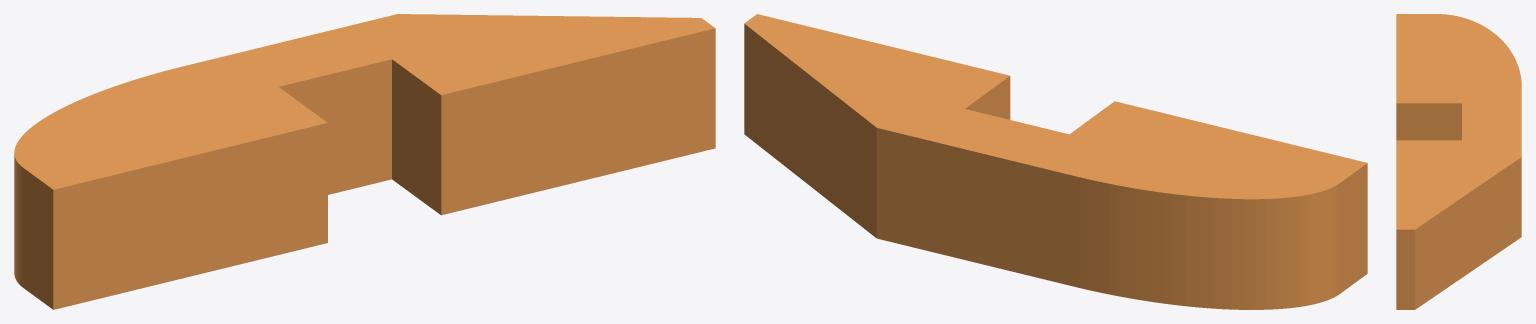
The model's file is WEST_FRONT_SPACER_HUAGONG_trial.glb.
3 renders of one model, left to right at view 1: azimuth 30°, elevation 25°; view 2: azimuth 150°, elevation 25°; view 3: azimuth 270°, elevation 25°, orthographic. The views are drawn at different scales.
Parts seen in each view (by area): view 1: geometry_0; view 2: geometry_0; view 3: geometry_0.
Boxes of the visible parts, x1=… form: geometry_0: x1=14, y1=14, x2=715, y2=309; geometry_0: x1=744, y1=14, x2=1367, y2=309; geometry_0: x1=1396, y1=14, x2=1521, y2=309.
Size of the model in its own units: 0.894 by 0.155 by 0.22.
